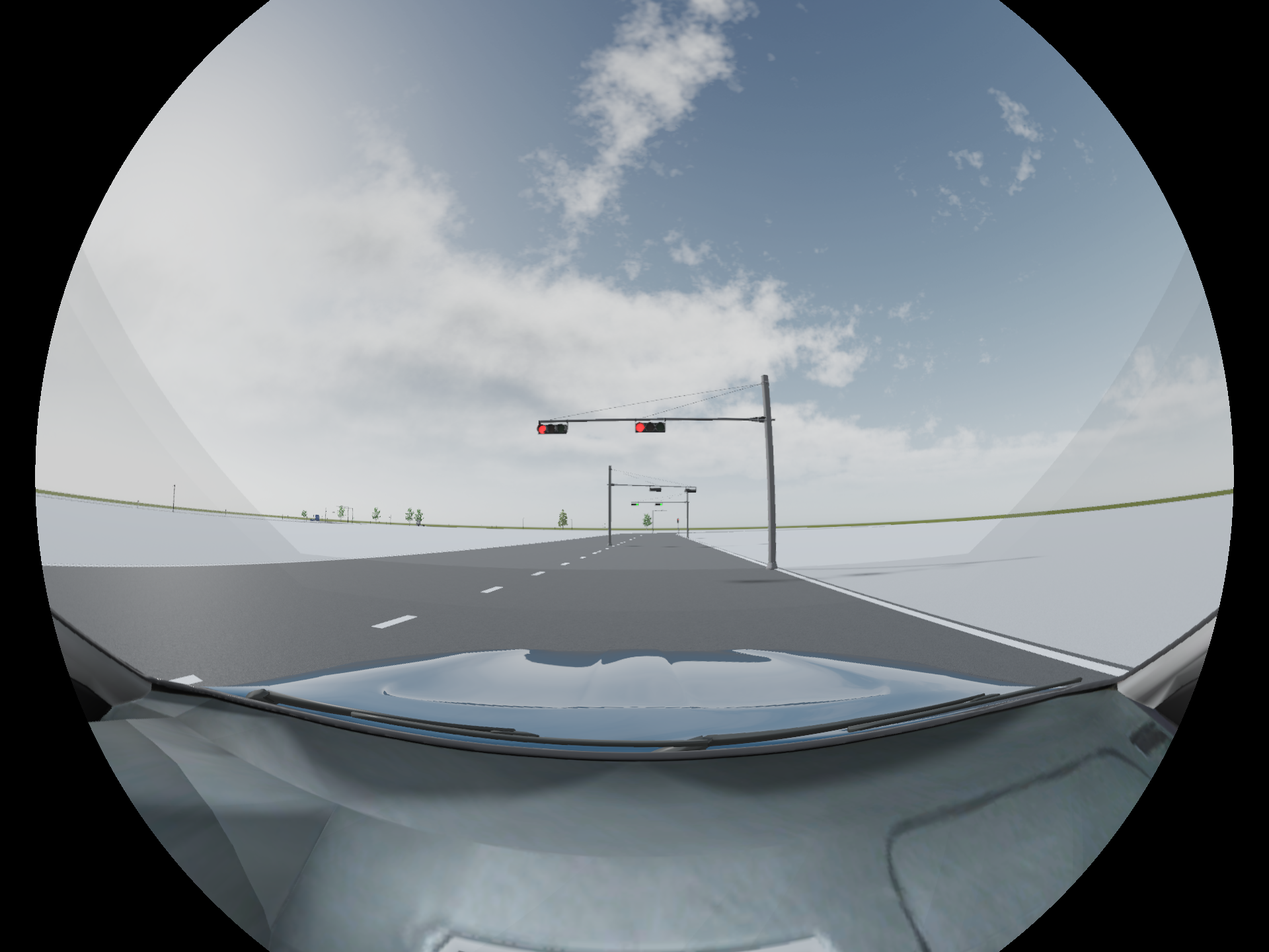Red Light: (535, 422, 570, 436), (635, 422, 667, 435)
